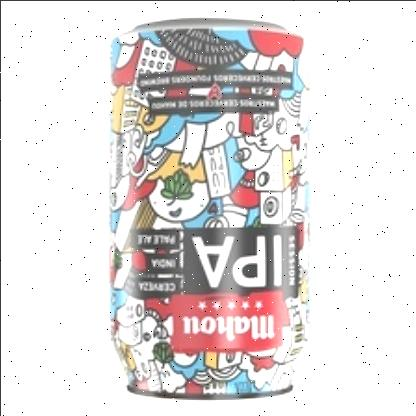Can: (108, 14, 312, 400)
